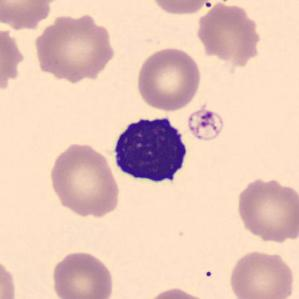Lymphocyte: (107, 108, 195, 192)
Platelets: (185, 106, 226, 142)
RBC: (32, 12, 118, 83), (47, 140, 122, 219), (133, 45, 204, 112), (194, 2, 261, 68), (234, 175, 298, 243), (226, 247, 296, 299), (48, 248, 116, 299), (1, 0, 58, 30), (0, 29, 25, 92), (146, 0, 218, 16), (141, 286, 215, 299), (0, 253, 18, 299)
